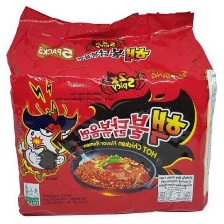snack: (0, 0, 222, 223)
